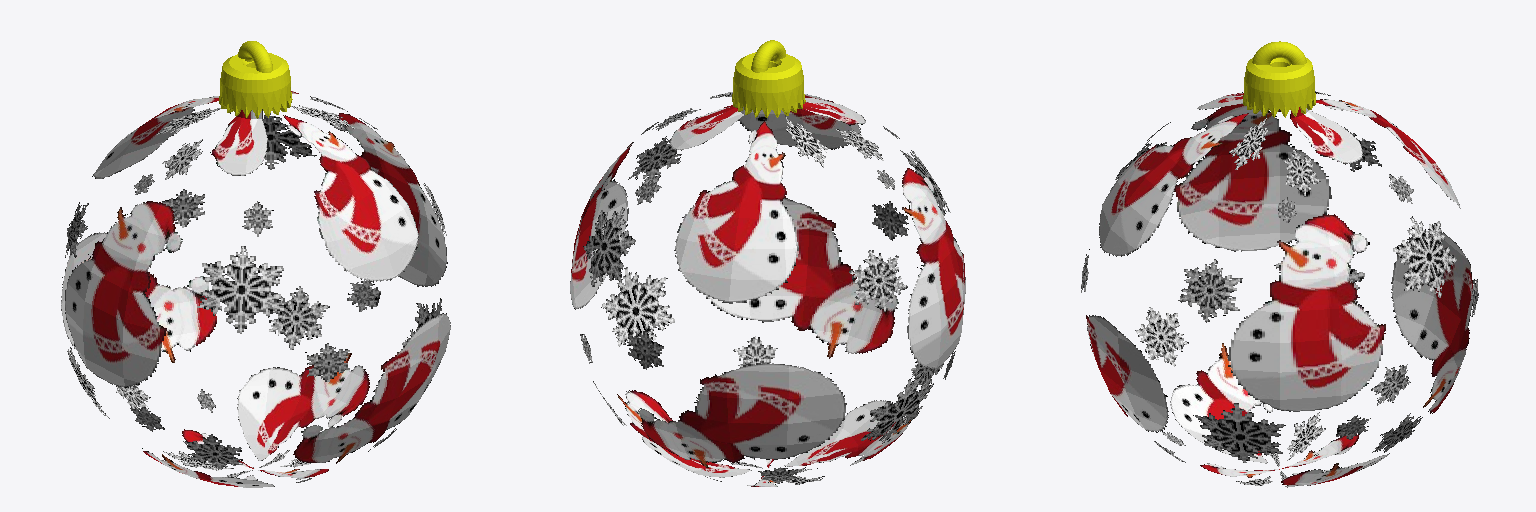
The picture shows the model from 3 angles: view 1: azimuth 30°, elevation 25°; view 2: azimuth 150°, elevation 25°; view 3: azimuth 270°, elevation 25°; orthographic projection.
Parts seen in each view (by area): view 1: Foco, Foco.001; view 2: Foco, Foco.001; view 3: Foco, Foco.001.
Part boxes in pixels (left/top/right/bottom): Foco: left=61, top=91, right=450, bottom=487; Foco.001: left=219, top=41, right=292, bottom=118; Foco: left=570, top=92, right=965, bottom=486; Foco.001: left=732, top=40, right=805, bottom=117; Foco: left=1081, top=91, right=1478, bottom=487; Foco.001: left=1243, top=41, right=1315, bottom=117.
Bounding box in the file's own units: 13.51 × 15.9 × 13.51.
2 materials, 2 textured.